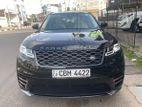car: (16, 11, 125, 98)
